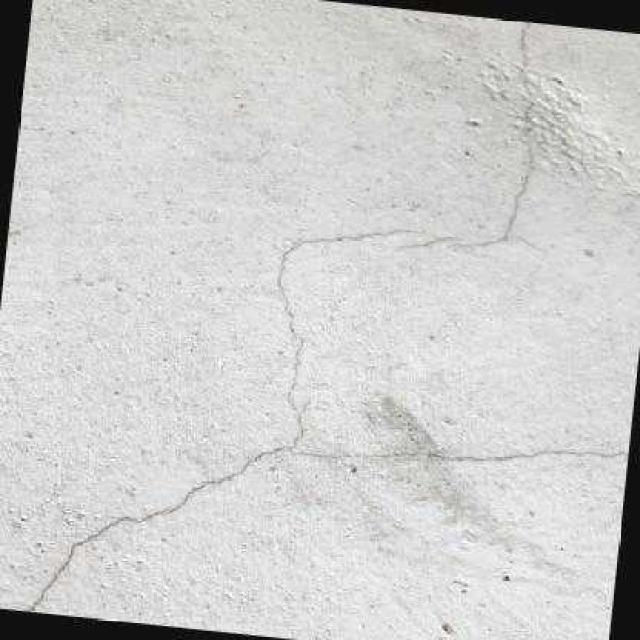D00: (20, 395, 628, 611), (269, 226, 416, 401), (451, 20, 533, 247), (396, 234, 451, 248)
